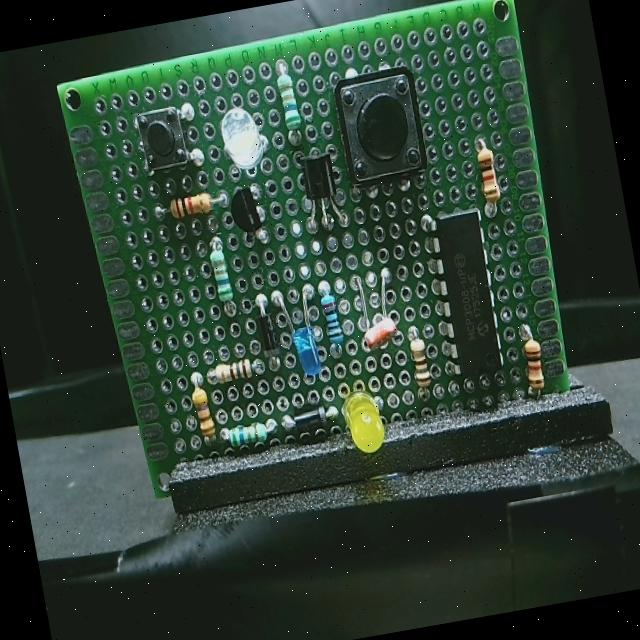IC: (418, 200, 507, 380)
cds: (356, 280, 404, 360)
diode: (281, 389, 342, 435), (254, 292, 284, 373)
led: (275, 281, 329, 387), (335, 379, 393, 465), (218, 100, 270, 174)
resistor: (312, 277, 366, 367), (180, 366, 227, 449), (466, 130, 512, 210), (518, 310, 554, 412), (152, 180, 219, 226), (218, 408, 282, 454), (406, 334, 444, 410), (205, 240, 242, 318), (205, 346, 265, 390), (270, 64, 306, 133)
switch: (330, 67, 436, 191), (133, 97, 200, 182)
transistor: (292, 142, 346, 235), (226, 180, 272, 243)
